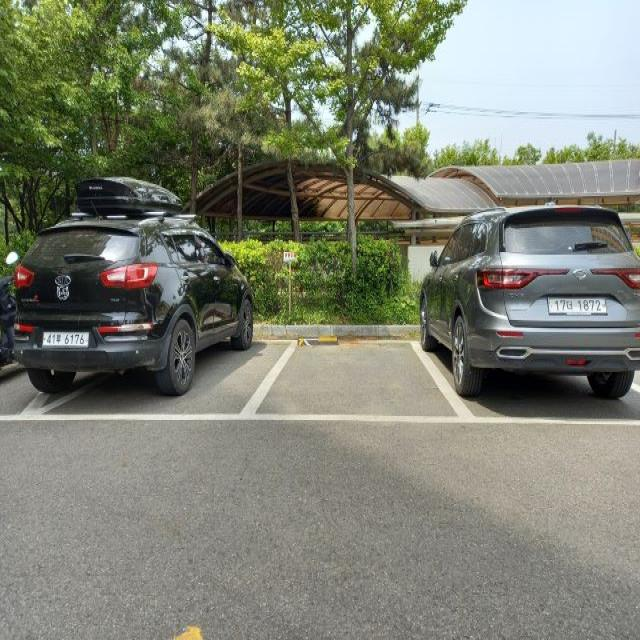empty: (245, 323, 471, 424)
occupied: (27, 218, 253, 408), (435, 228, 640, 412)
